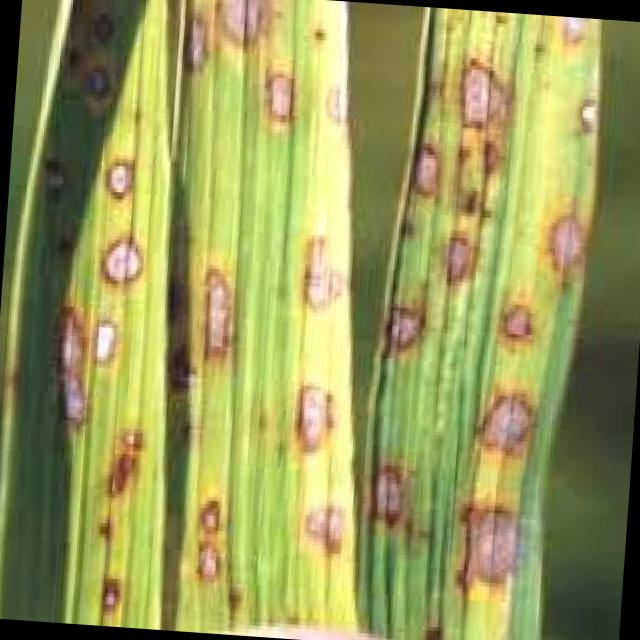Rice_Brownspot: (39, 297, 130, 413), (453, 477, 534, 593), (293, 216, 364, 316), (476, 357, 547, 457), (177, 476, 230, 594), (192, 245, 244, 362), (452, 38, 516, 127), (292, 374, 359, 451), (90, 223, 162, 283), (369, 450, 423, 526), (100, 427, 154, 500), (494, 288, 546, 362), (94, 146, 151, 212), (299, 485, 351, 554), (542, 196, 589, 268), (172, 8, 218, 70), (257, 68, 303, 124), (410, 142, 444, 207), (436, 232, 472, 290), (324, 74, 358, 124), (574, 84, 600, 140), (99, 559, 124, 608), (556, 19, 588, 52)
